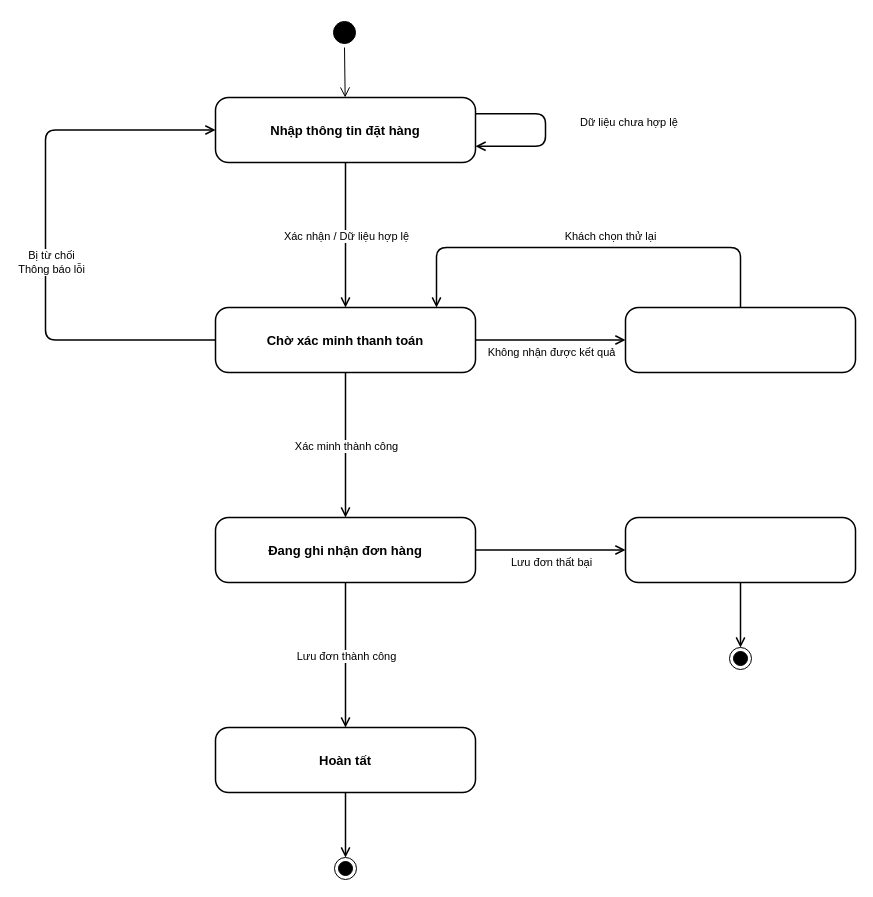
Some shapes in this 873 by 897 pixel diagram are drawn without their labels. The centre of each missing label's shape, as x and y in pixels:
"Lỗi ghi nhận" belongs at point (740, 549).
"Lỗi kết nối thanh toán" belongs at point (740, 339).
